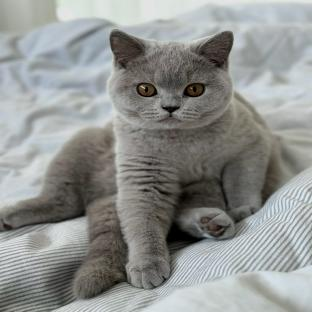Animal: (0, 29, 281, 298)
